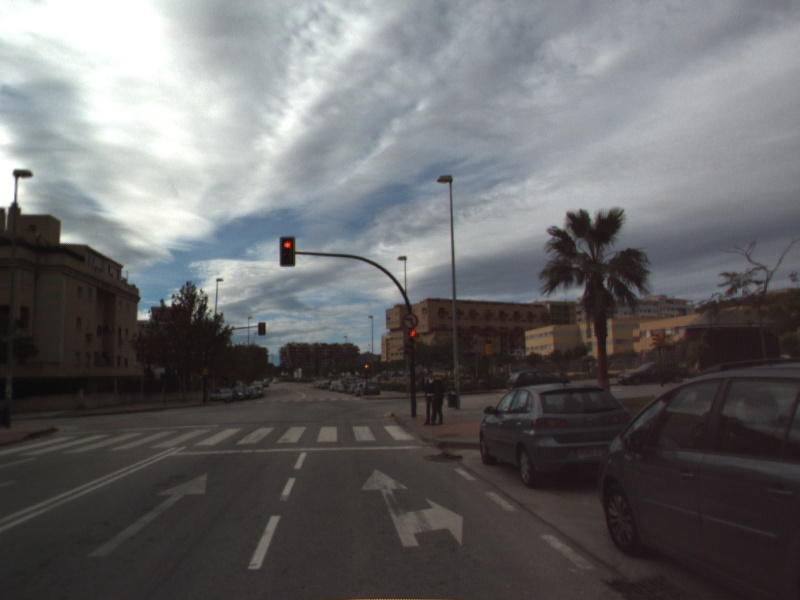STRAIGHT: (84, 471, 209, 560)
STRAIGHT_RIGHT: (358, 467, 465, 549)
